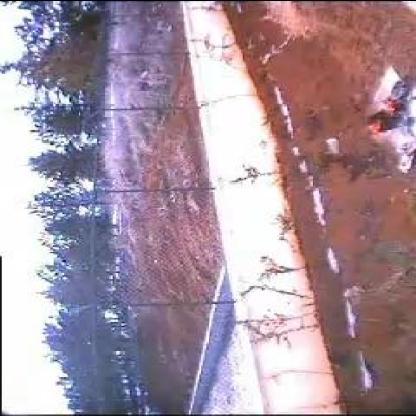foggia-v2-map80-epoch100 - v1 4323: (364, 96, 404, 138)
